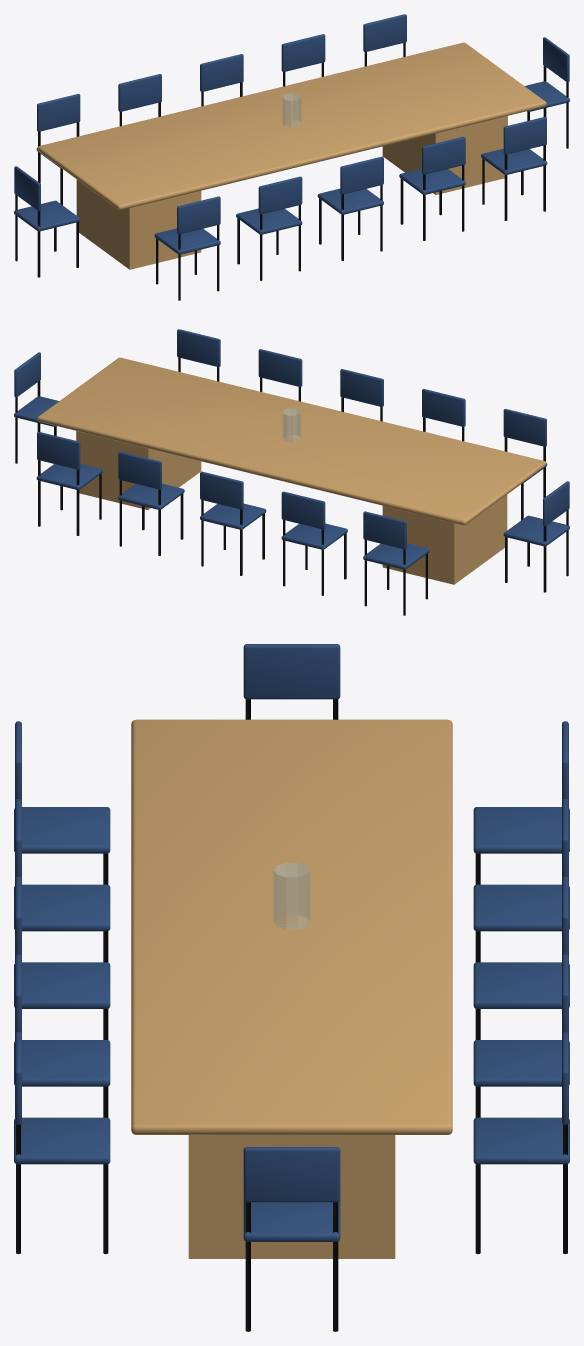
File: justice.court.jury_table.glb
3 renders of one model, top to bottom at view 1: azimuth 30°, elevation 25°; view 2: azimuth 150°, elevation 25°; view 3: azimuth 270°, elevation 25°, orthographic. The views are drawn at different scales.
Parts seen in each view (by area): view 1: table__glulam, chairs__fabric_blue, chairs__plastic_black, table__glass; view 2: table__glulam, chairs__fabric_blue, chairs__plastic_black, table__glass; view 3: table__glulam, chairs__fabric_blue, chairs__plastic_black, table__glass.
Boxes of the visible parts, box(x1,y1,x2,y2) form: table__glulam: box(37, 42, 546, 269); chairs__fabric_blue: box(14, 14, 569, 254); chairs__plastic_black: box(15, 42, 568, 300); table__glass: box(283, 93, 300, 127); table__glulam: box(37, 357, 546, 584); chairs__fabric_blue: box(14, 329, 569, 569); chairs__plastic_black: box(15, 357, 568, 615); table__glass: box(283, 408, 300, 442); table__glulam: box(131, 719, 452, 1258); chairs__fabric_blue: box(14, 644, 569, 1241); chairs__plastic_black: box(16, 699, 567, 1331); table__glass: box(274, 863, 309, 929).
Bounding box in the file's own units: 5.22 × 1 × 2.42.
